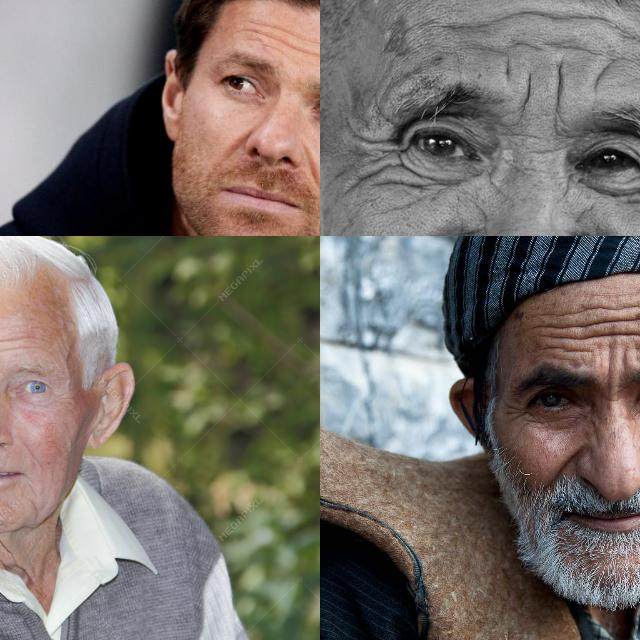chin: (25, 496, 45, 516)
crows_feet: (360, 125, 404, 179), (501, 398, 527, 424)
forehead: (483, 0, 608, 34), (546, 34, 606, 61), (431, 12, 483, 38), (574, 305, 608, 343), (612, 301, 640, 347), (538, 314, 572, 350), (502, 30, 542, 59), (248, 20, 280, 50), (620, 11, 640, 58), (0, 328, 35, 354), (286, 29, 310, 65), (586, 64, 614, 92), (493, 55, 517, 81)
frown_line: (552, 72, 570, 120), (518, 71, 538, 109), (602, 358, 618, 390)
gummy_smile: (552, 448, 576, 488), (227, 132, 251, 156), (304, 151, 320, 182), (21, 442, 41, 466)
